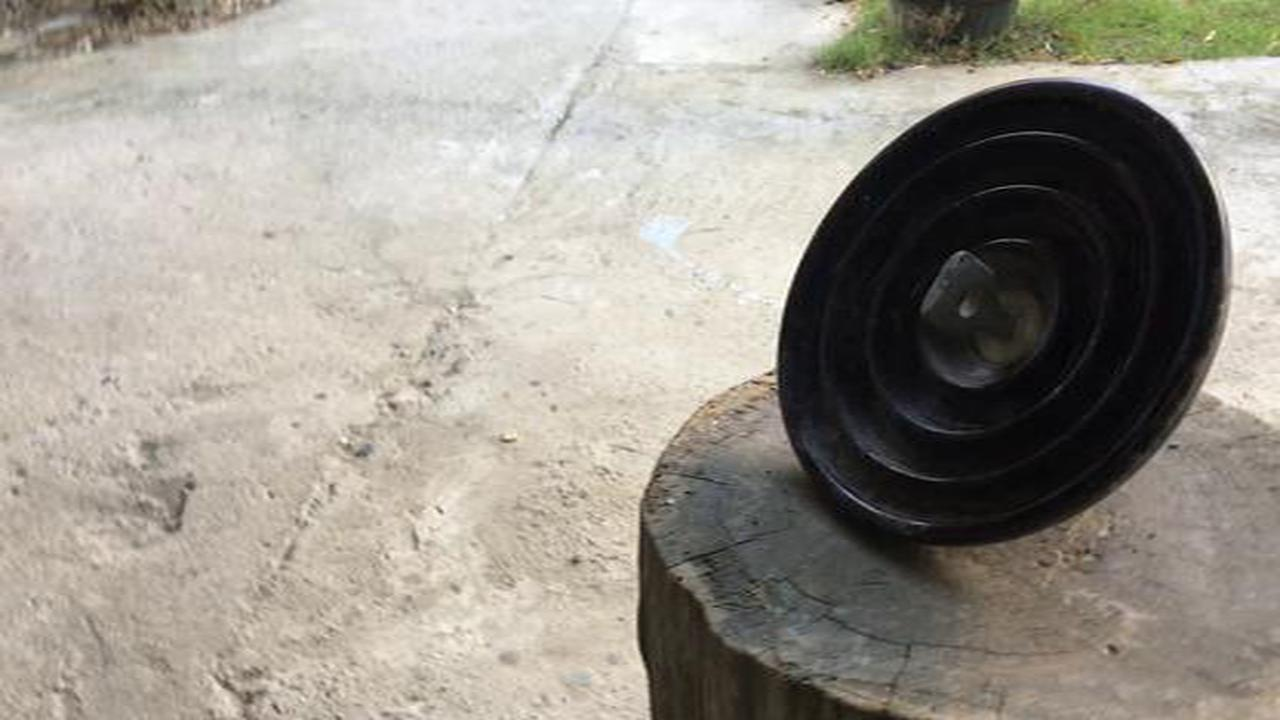insulator_disc: (767, 59, 1235, 554)
